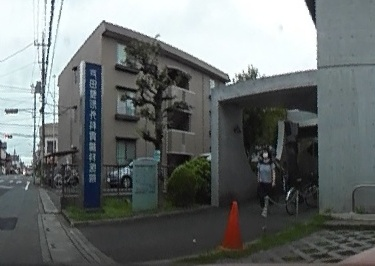person: (255, 149, 277, 214)
